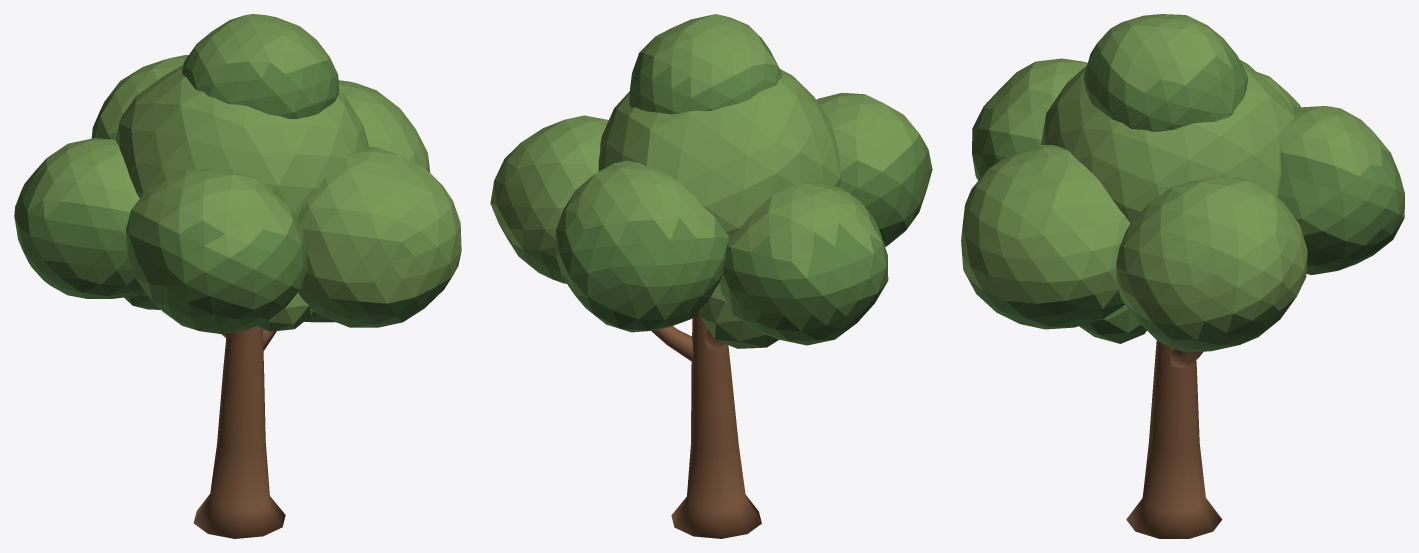
Rendered from TreeLeafy.fbx.
3 renders of one model, left to right at view 1: azimuth 30°, elevation 25°; view 2: azimuth 150°, elevation 25°; view 3: azimuth 270°, elevation 25°, orthographic. The views are drawn at different scales.
Parts seen in each view (by area): view 1: TreeLeafy_Mesh; view 2: TreeLeafy_Mesh; view 3: TreeLeafy_Mesh.
Boxes of the visible parts, <box> form: TreeLeafy_Mesh: <box>14,14,461,538</box>; TreeLeafy_Mesh: <box>490,14,932,538</box>; TreeLeafy_Mesh: <box>961,14,1404,538</box>.
Bounding box in the file's own units: 6.53 × 8 × 6.36.
